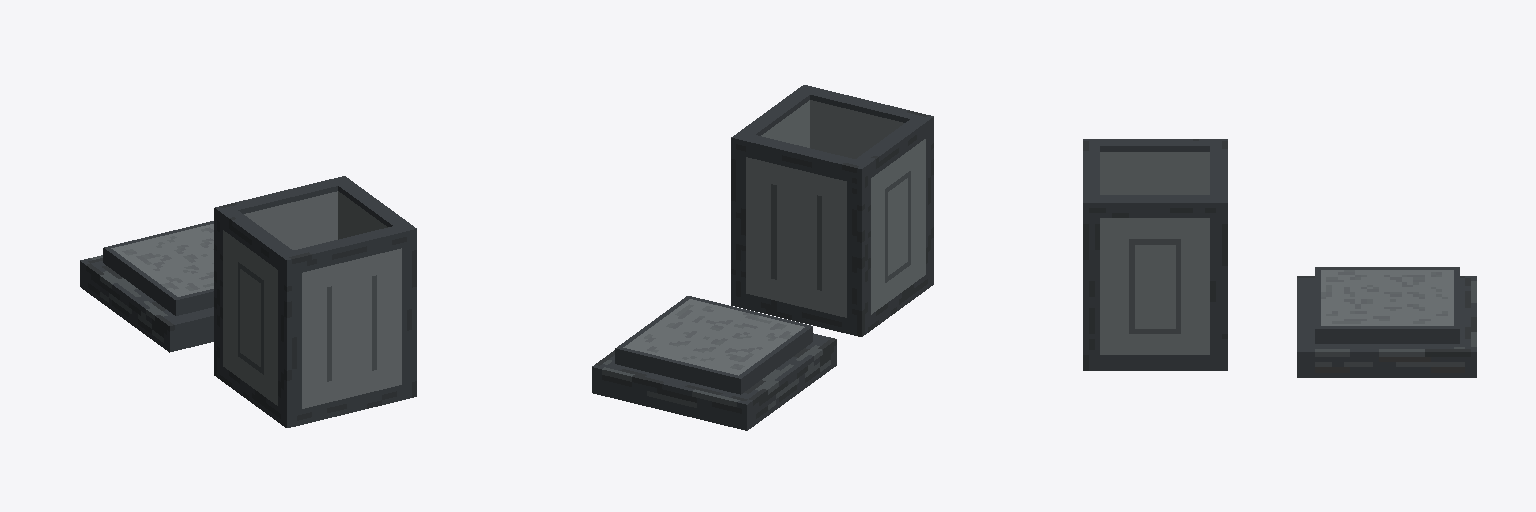
3 views of the same model, side by side, from view 1: azimuth 30°, elevation 25°; view 2: azimuth 150°, elevation 25°; view 3: azimuth 270°, elevation 25° (orthographic).
Parts seen in each view (by area): view 1: object 1; view 2: object 1; view 3: object 1.
Part boxes in pixels (bbox=[...]): object 1: bbox=[80, 176, 416, 427]; object 1: bbox=[592, 85, 933, 430]; object 1: bbox=[1083, 139, 1476, 377].
Bounding box in the file's own units: 3.1 × 3.2 × 6.8.
1 materials, 1 textured.